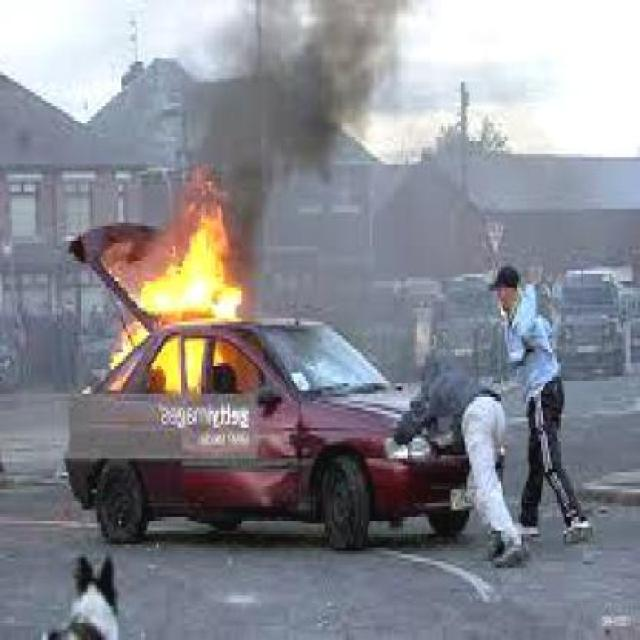Fire: (92, 174, 258, 394)
Smoke: (229, 0, 420, 243)
